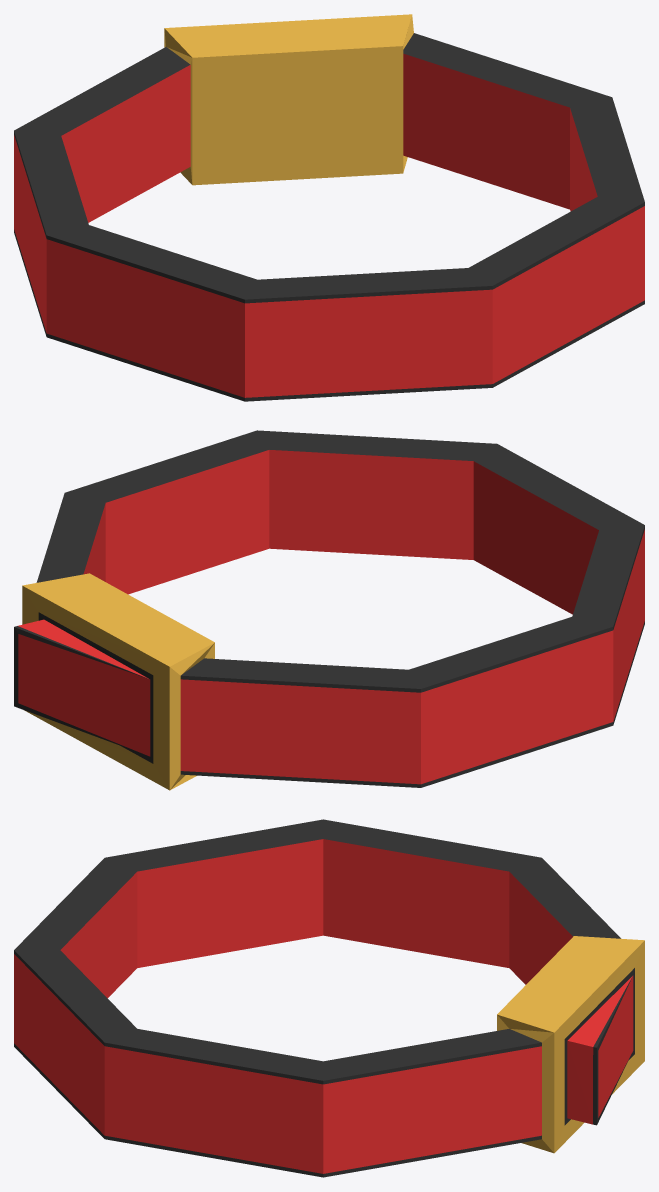
File: Puppy_Collar.fbx
3 renders of one model, top to bottom at view 1: azimuth 30°, elevation 25°; view 2: azimuth 150°, elevation 25°; view 3: azimuth 270°, elevation 25°, orthographic. The views are drawn at different scales.
Visible parts, largest first — view 1: Dog_Collar; view 2: Dog_Collar; view 3: Dog_Collar.
Boxes of the visible parts, x1,y1,x2,y2 form: Dog_Collar: (14, 14, 644, 401); Dog_Collar: (14, 430, 644, 790); Dog_Collar: (14, 819, 644, 1177).
Bounding box in the file's own units: 27.41 × 5.9 × 27.95.
